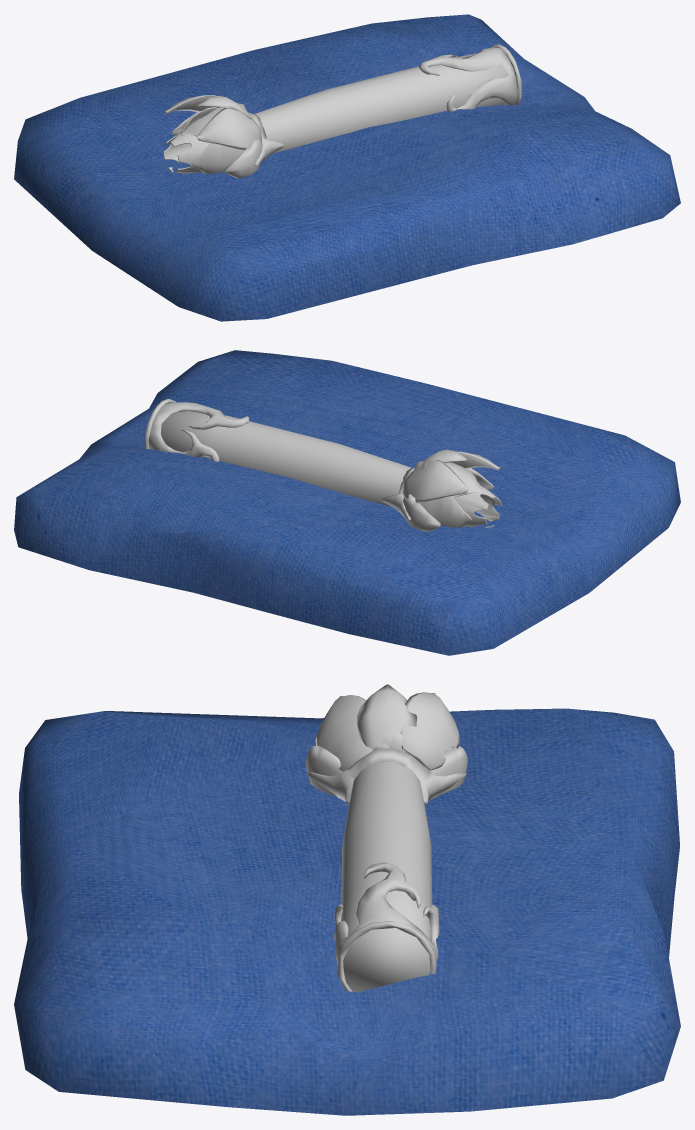
File: Sword3.fbx
3 views of the same model, one above another, from view 1: azimuth 30°, elevation 25°; view 2: azimuth 150°, elevation 25°; view 3: azimuth 270°, elevation 25° (orthographic). The views are drawn at different scales.
Visible parts, largest first — view 1: pillow.001, part2; view 2: pillow.001, part2; view 3: pillow.001, part2.
Boxes of the visible parts, <box> form: pillow.001: <box>14,14,680,321</box>; part2: <box>163,44,521,178</box>; pillow.001: <box>14,350,680,655</box>; part2: <box>144,399,501,531</box>; pillow.001: <box>14,708,680,1115</box>; part2: <box>305,684,468,992</box>.
Bounding box in the file's own units: 60.03 × 13.34 × 48.49.
